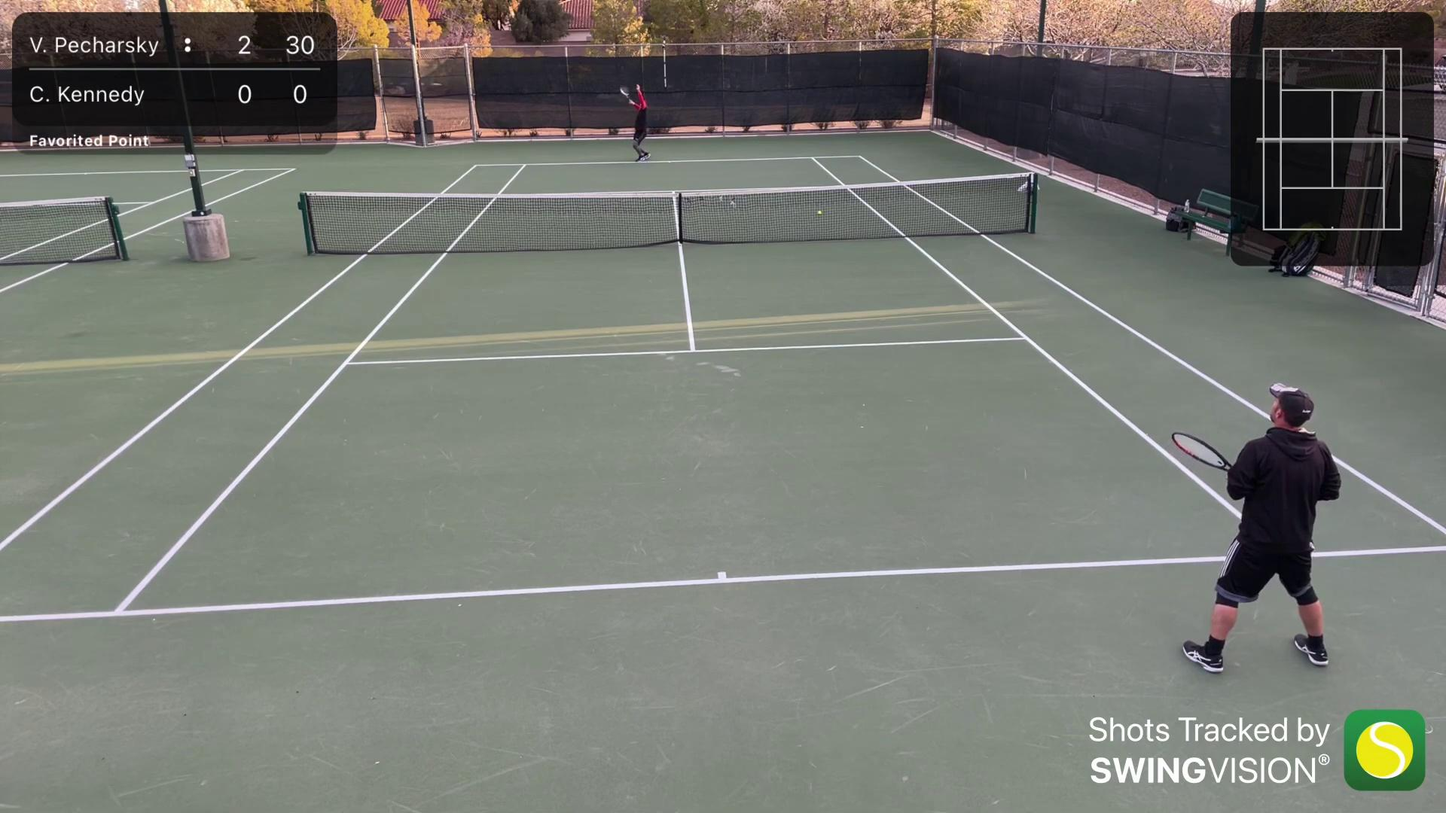ball: (633, 32, 640, 39), (816, 210, 822, 216)
